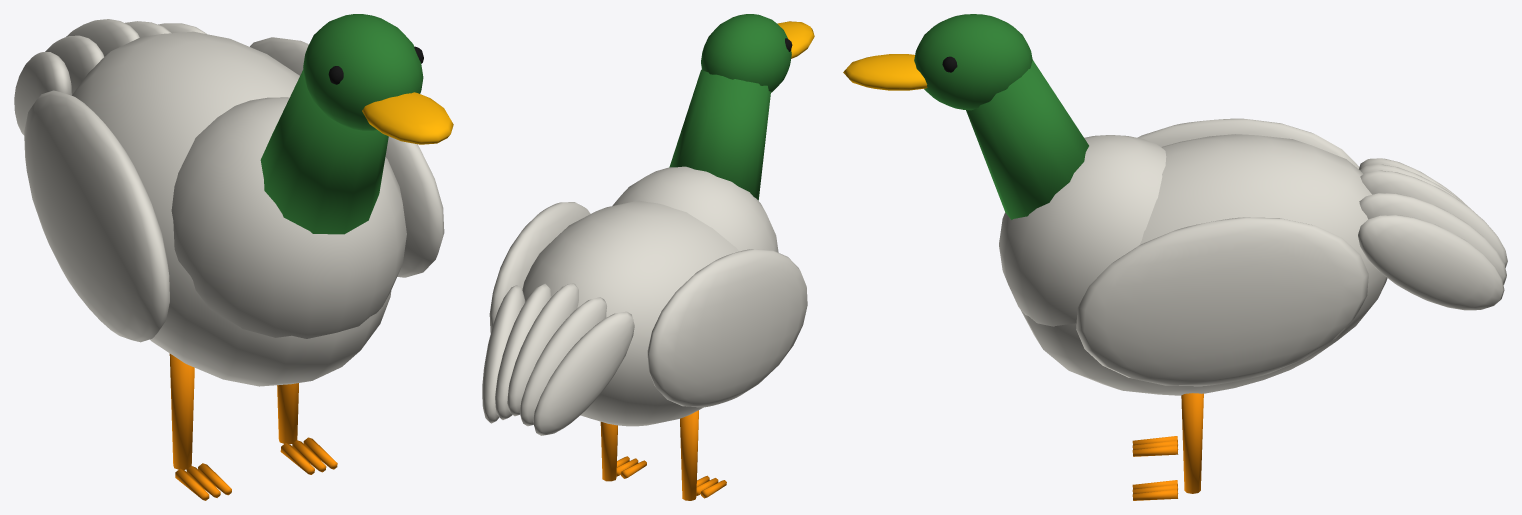
The model's file is duck.glb.
The picture shows the model from 3 angles, left to right: view 1: azimuth 30°, elevation 25°; view 2: azimuth 150°, elevation 25°; view 3: azimuth 270°, elevation 25°; orthographic projection. The views are drawn at different scales.
Parts seen in each view (by area): view 1: duck; view 2: duck; view 3: duck.
Part boxes in pixels (x1,y1,x2,y2): duck: (14, 14, 453, 500); duck: (482, 14, 814, 500); duck: (843, 14, 1507, 500).
Bounding box in the file's own units: 0.4647 × 0.776 × 1.03.
